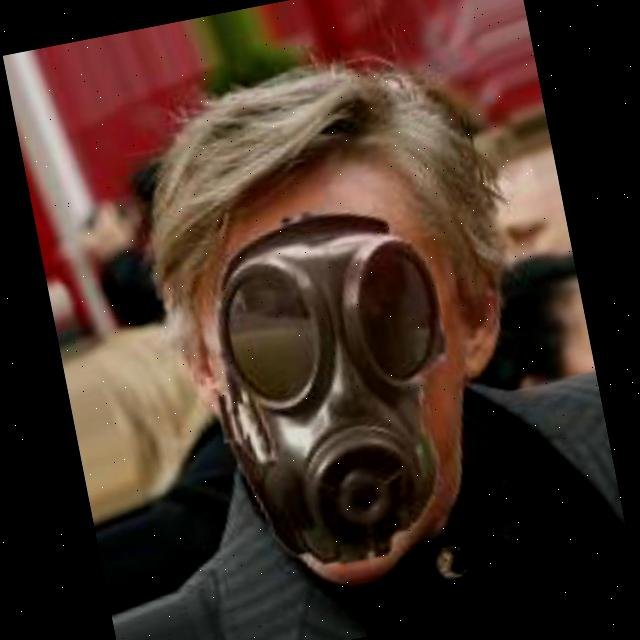suspicion: (78, 81, 576, 621)
